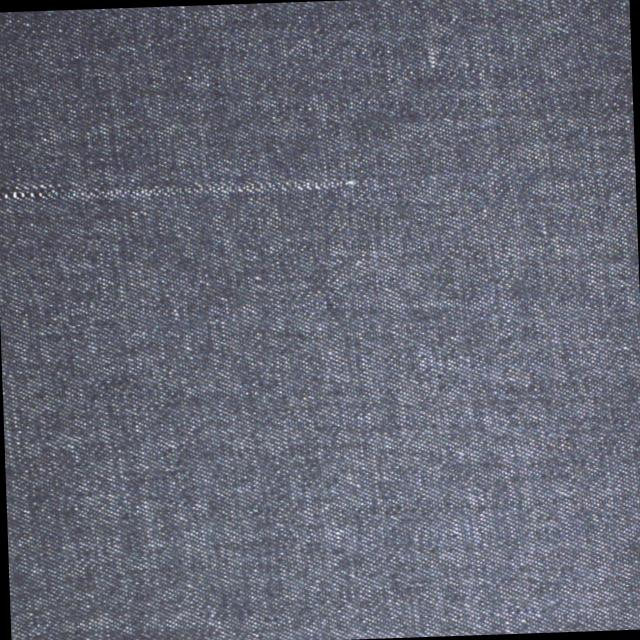Warp_Weft: (0, 171, 359, 202)
